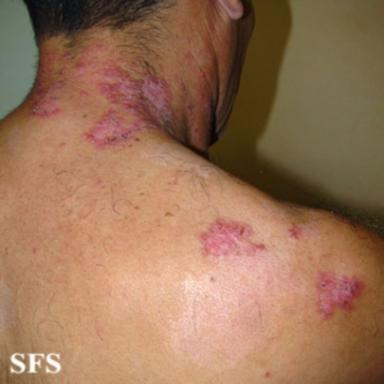Hailey-Hailey-Disease: (83, 63, 173, 149), (26, 50, 72, 117), (201, 218, 264, 258), (313, 271, 363, 318), (73, 42, 107, 73)
